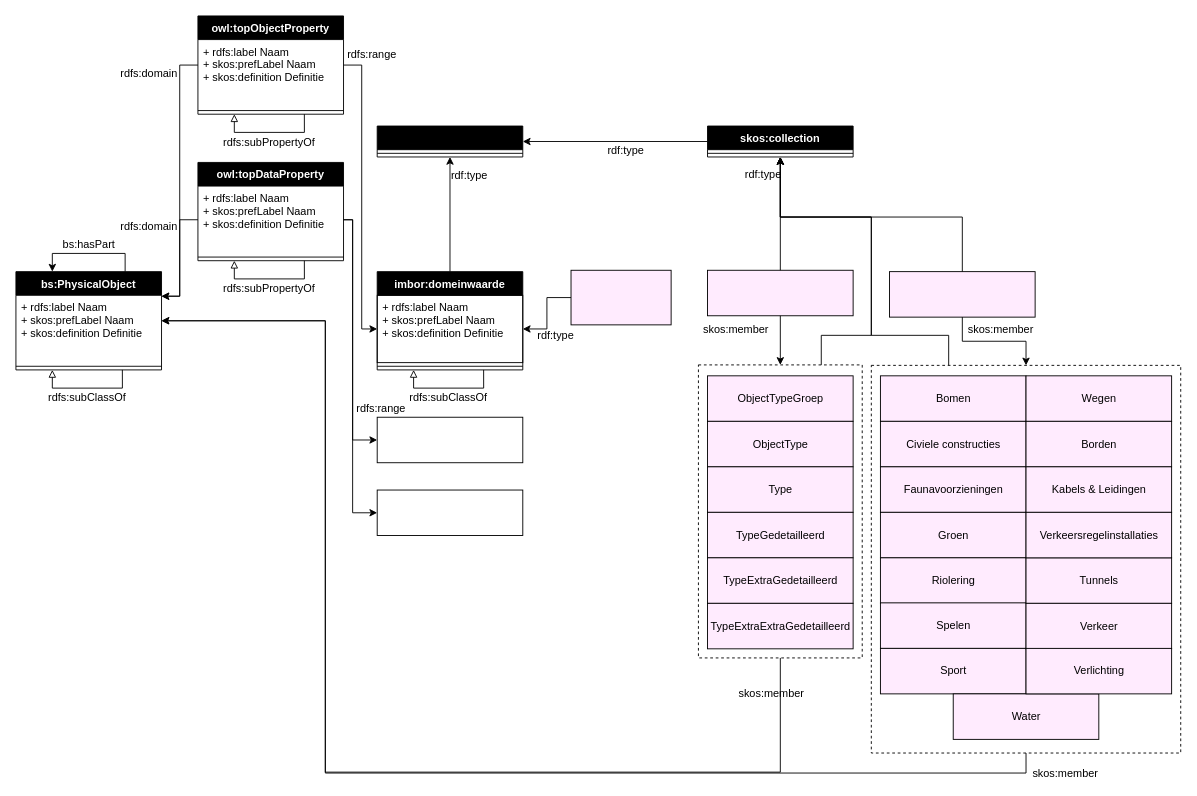
Image size: 1197x796. Some labels were removed from this diagram. Each missing label, with the centre of its shape:
"domeinwaarde" belongs at point (620, 297).
"Hierarchie" belongs at point (780, 292).
"owl:class" belongs at point (449, 141).
"qudt:.." belongs at point (449, 512).
"Vakdiscipline" belongs at point (962, 294).
"xsd:string" belongs at point (449, 439).
